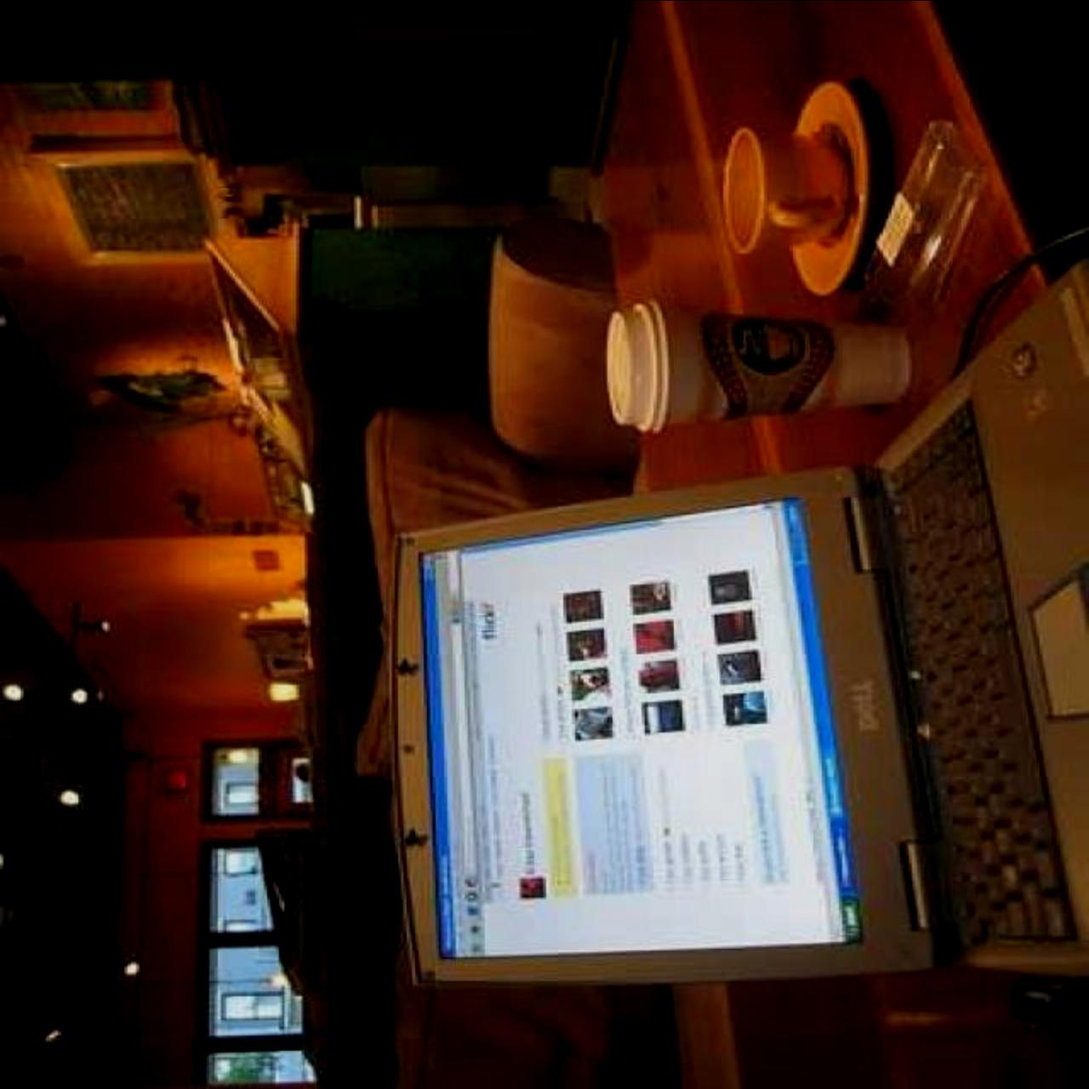laptop: (391, 260, 1089, 1026)
